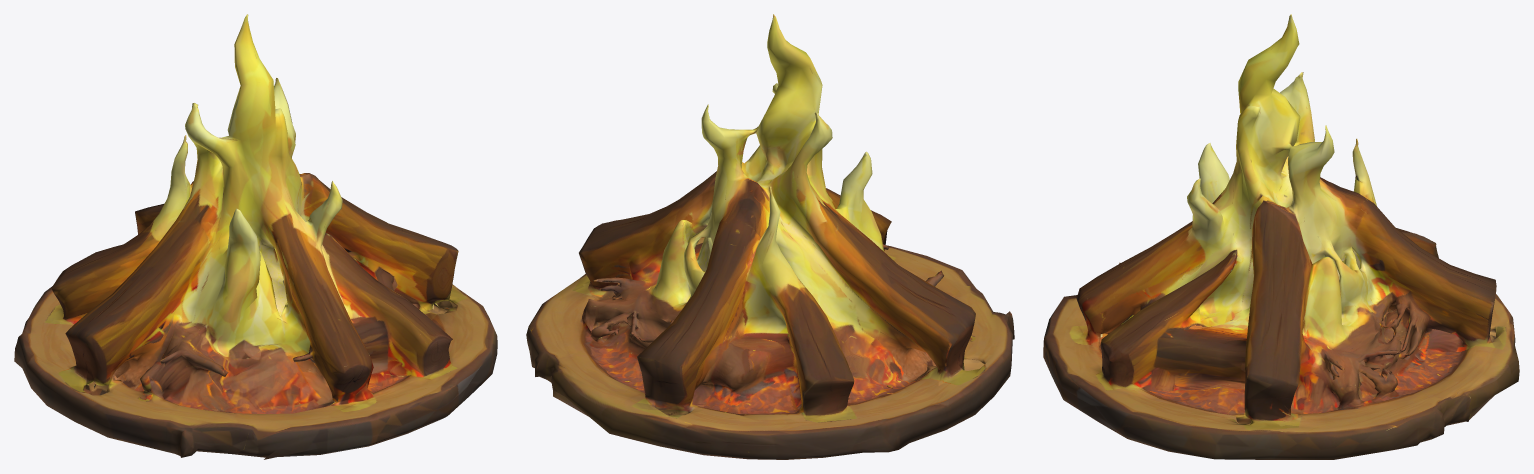
File: born_fire.glb
The picture shows the model from 3 angles, left to right: view 1: azimuth 30°, elevation 25°; view 2: azimuth 150°, elevation 25°; view 3: azimuth 270°, elevation 25°; orthographic projection.
Bounding box in the file's own units: 1.98 × 1.59 × 1.98.
Materials: 1 (1 with a texture image).
